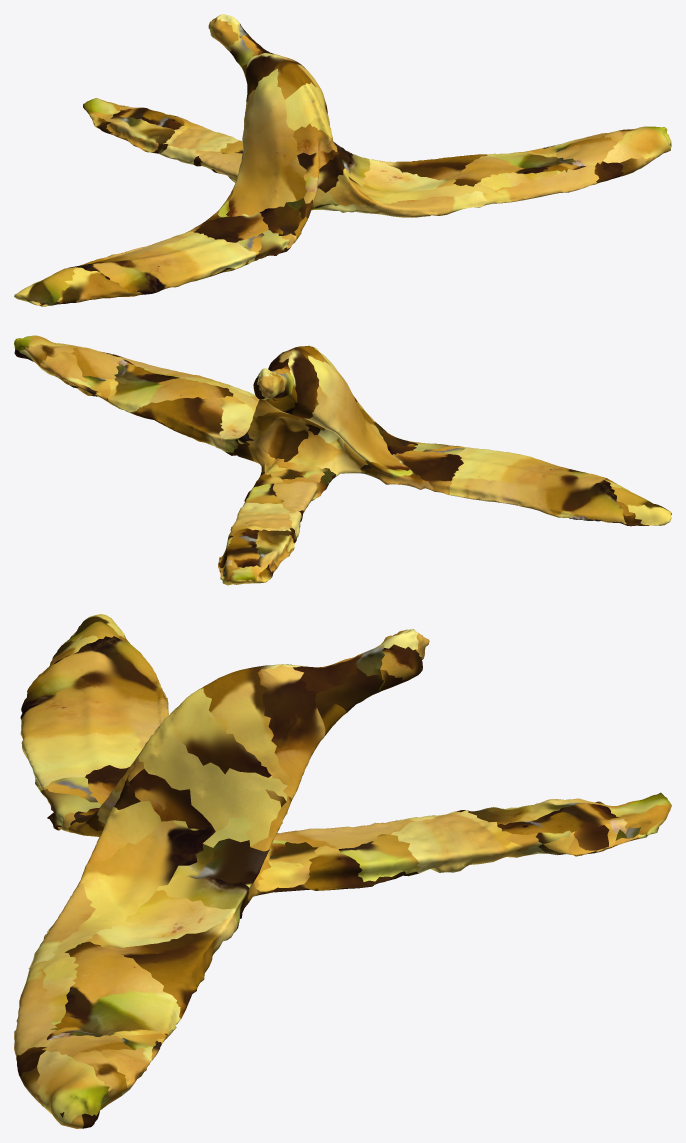
The model's file is 3DModel.obj.
The picture shows the model from 3 angles, top to bottom: view 1: azimuth 30°, elevation 25°; view 2: azimuth 150°, elevation 25°; view 3: azimuth 270°, elevation 25°; orthographic projection. The views are drawn at different scales.
Parts seen in each view (by area): view 1: 3DModel; view 2: 3DModel; view 3: 3DModel.
Part boxes in pixels (box(x1,y1,x2,y2)): 3DModel: box(14, 14, 671, 306); 3DModel: box(14, 335, 671, 585); 3DModel: box(14, 614, 671, 1128).
Bounding box in the file's own units: 0.329 × 0.0723 × 0.1792.
